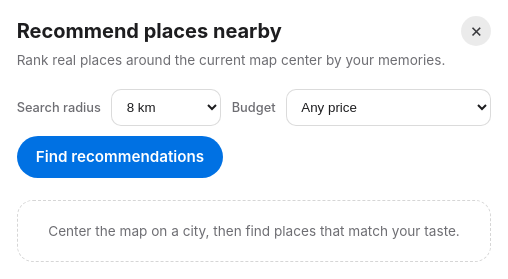
Test: NearbyRecommendationsModal › surfaces the server's error message (e.g. 429)
Click the button "Find recommendations": [120, 157] box [17,136,223,178]
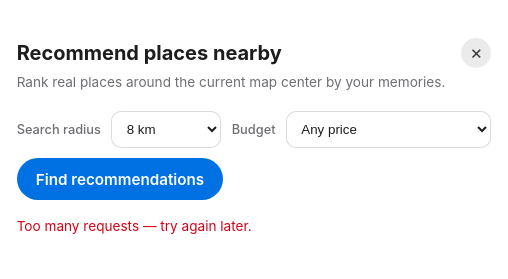
Now the text "Too many requests — try again later." is shown, box [17,218,252,234]
